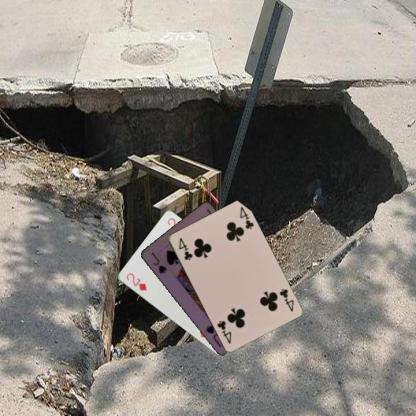2d: (124, 270, 148, 292)
4c: (276, 286, 294, 313), (176, 234, 193, 262)
Js: (147, 249, 168, 275)
